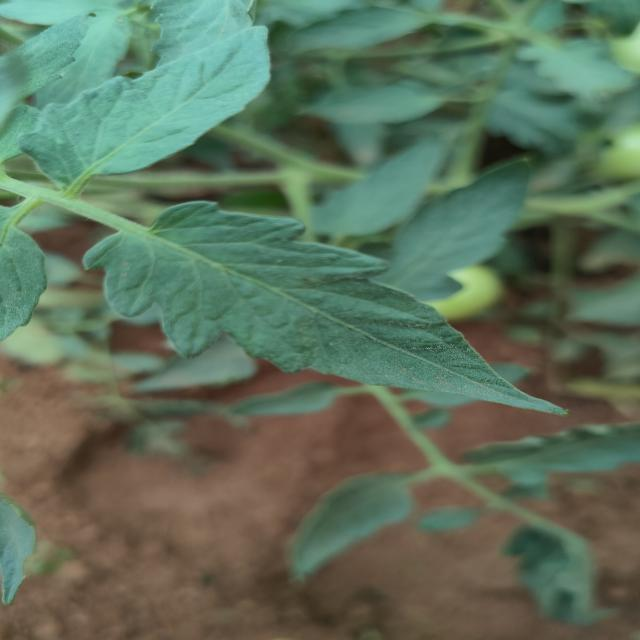tomato_healthy: (80, 200, 570, 416), (26, 21, 272, 184)
